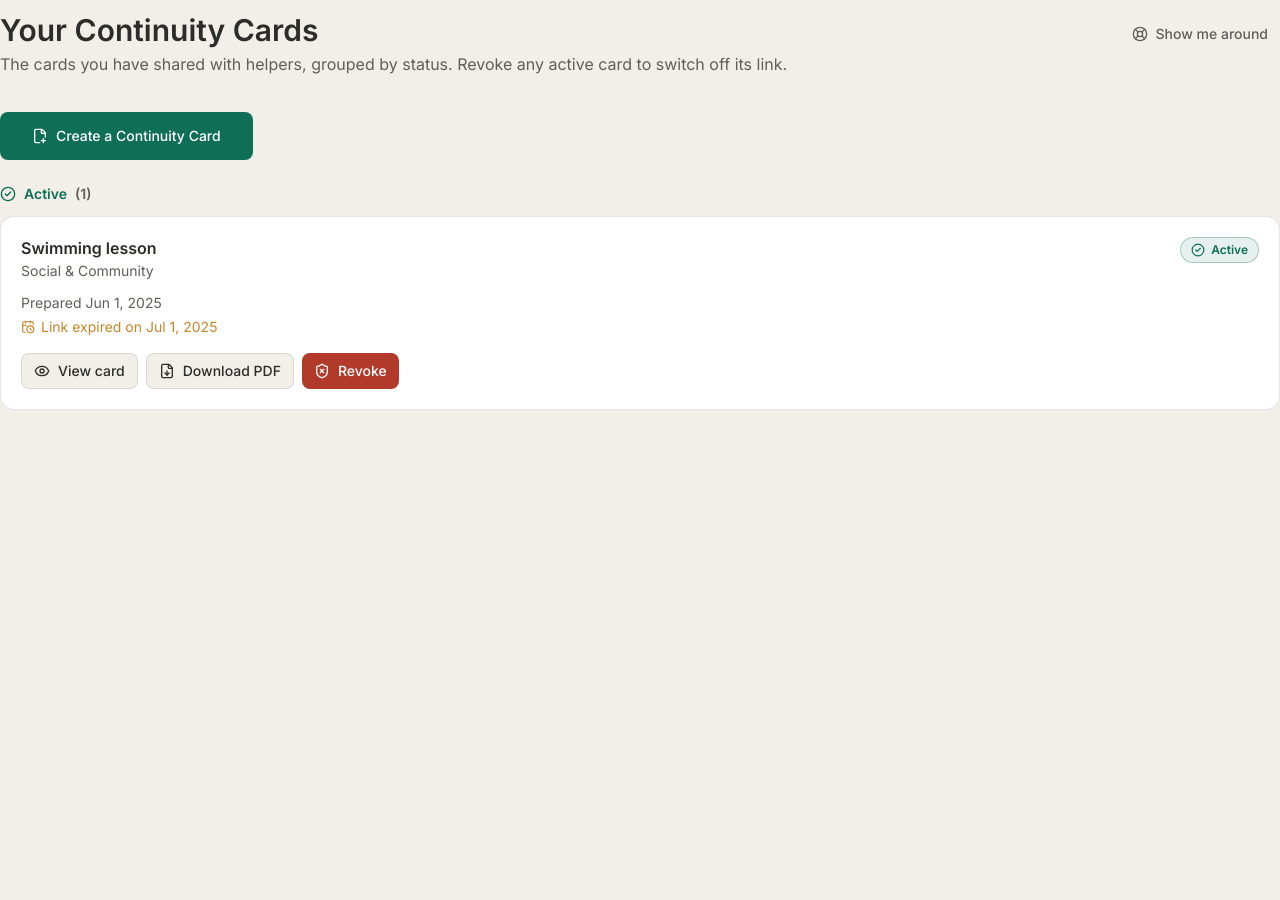
CardHistoryList › views a card inline: fetches the content by id and renders it
expect the heading "Swimming lesson" is shown: met, box [21,237,157,259]
Step 1. Click the button "View card" → (79, 371), box [21,353,138,389]
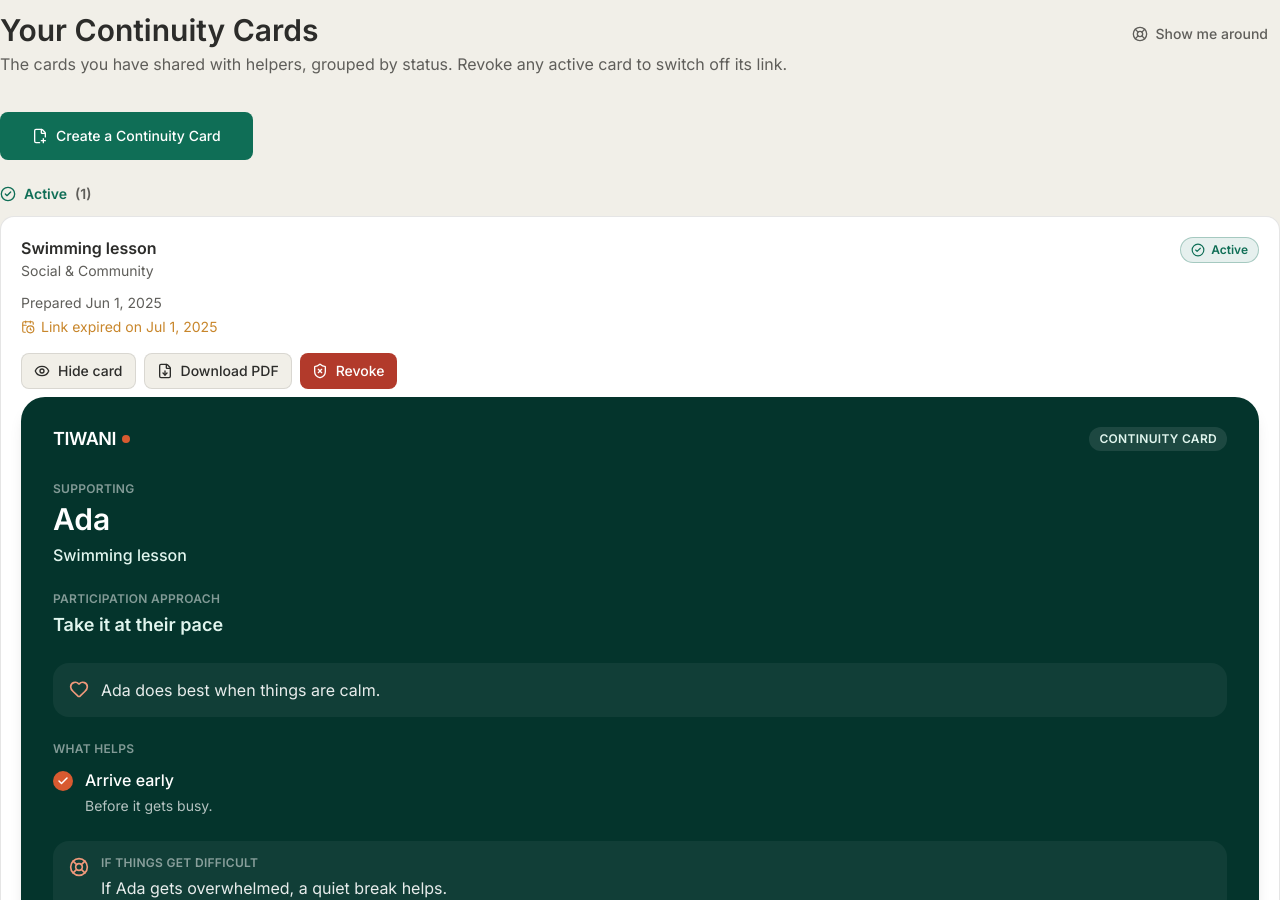
expect the text "Take it at their pace" is shown: met, box [53,614,223,634]
